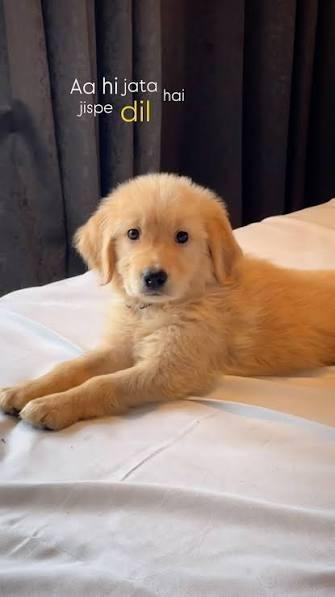puppy-dog: (0, 174, 335, 431)
